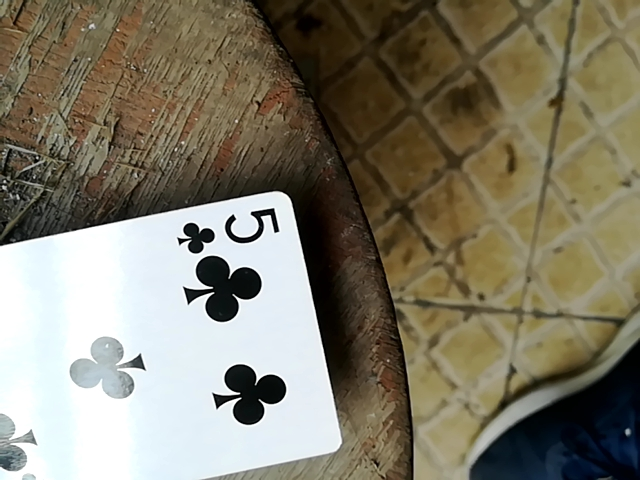mh 5: (0, 189, 343, 480)
